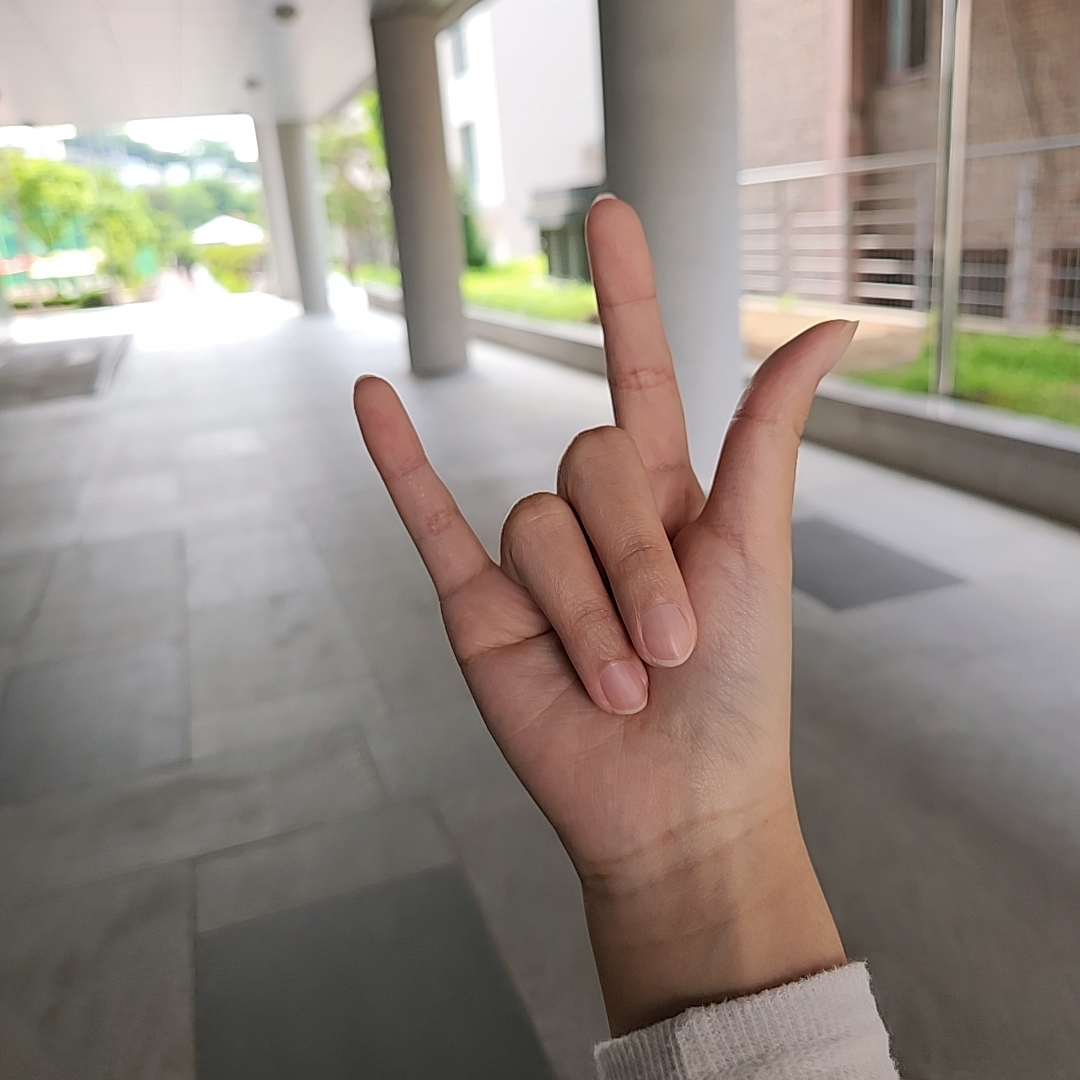iloveyou: (355, 192, 862, 846)
